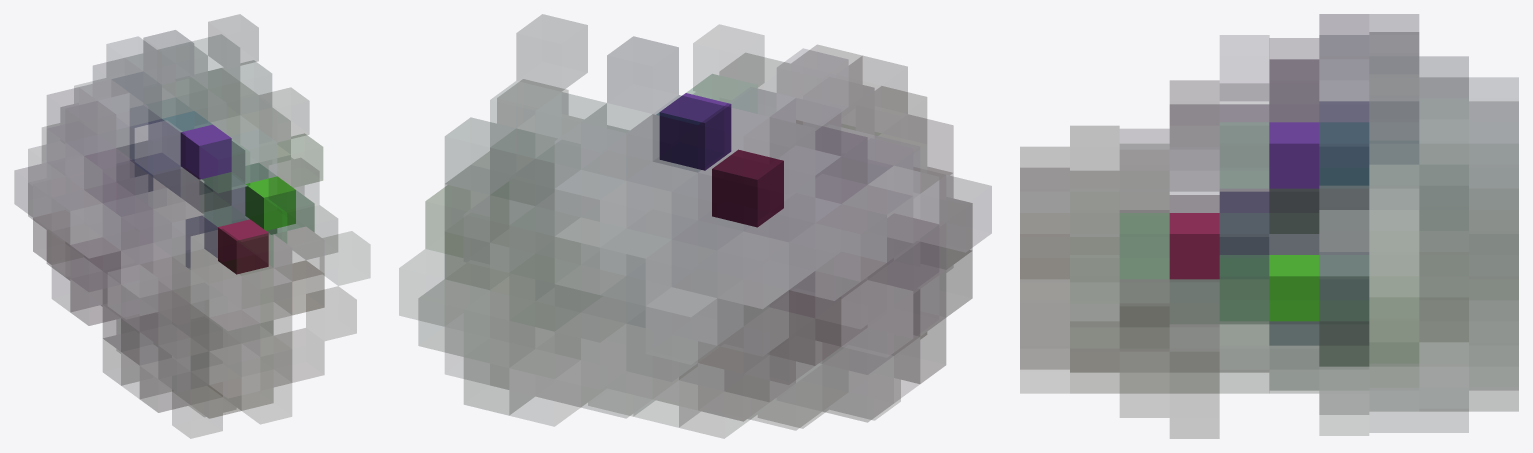
File: iter_15.obj
The picture shows the model from 3 angles, left to right: view 1: azimuth 30°, elevation 25°; view 2: azimuth 150°, elevation 25°; view 3: azimuth 270°, elevation 25°; orthographic projection. The views are drawn at different scales.
Parts seen in each view (by area): view 1: iter_15; view 2: iter_15; view 3: iter_15.
Part boxes in pixels (bbox=[...]): iter_15: bbox=[14, 14, 369, 438]; iter_15: bbox=[399, 14, 991, 438]; iter_15: bbox=[1020, 14, 1518, 438].
Size of the model in its own units: 0.9 by 0.9 by 1.
